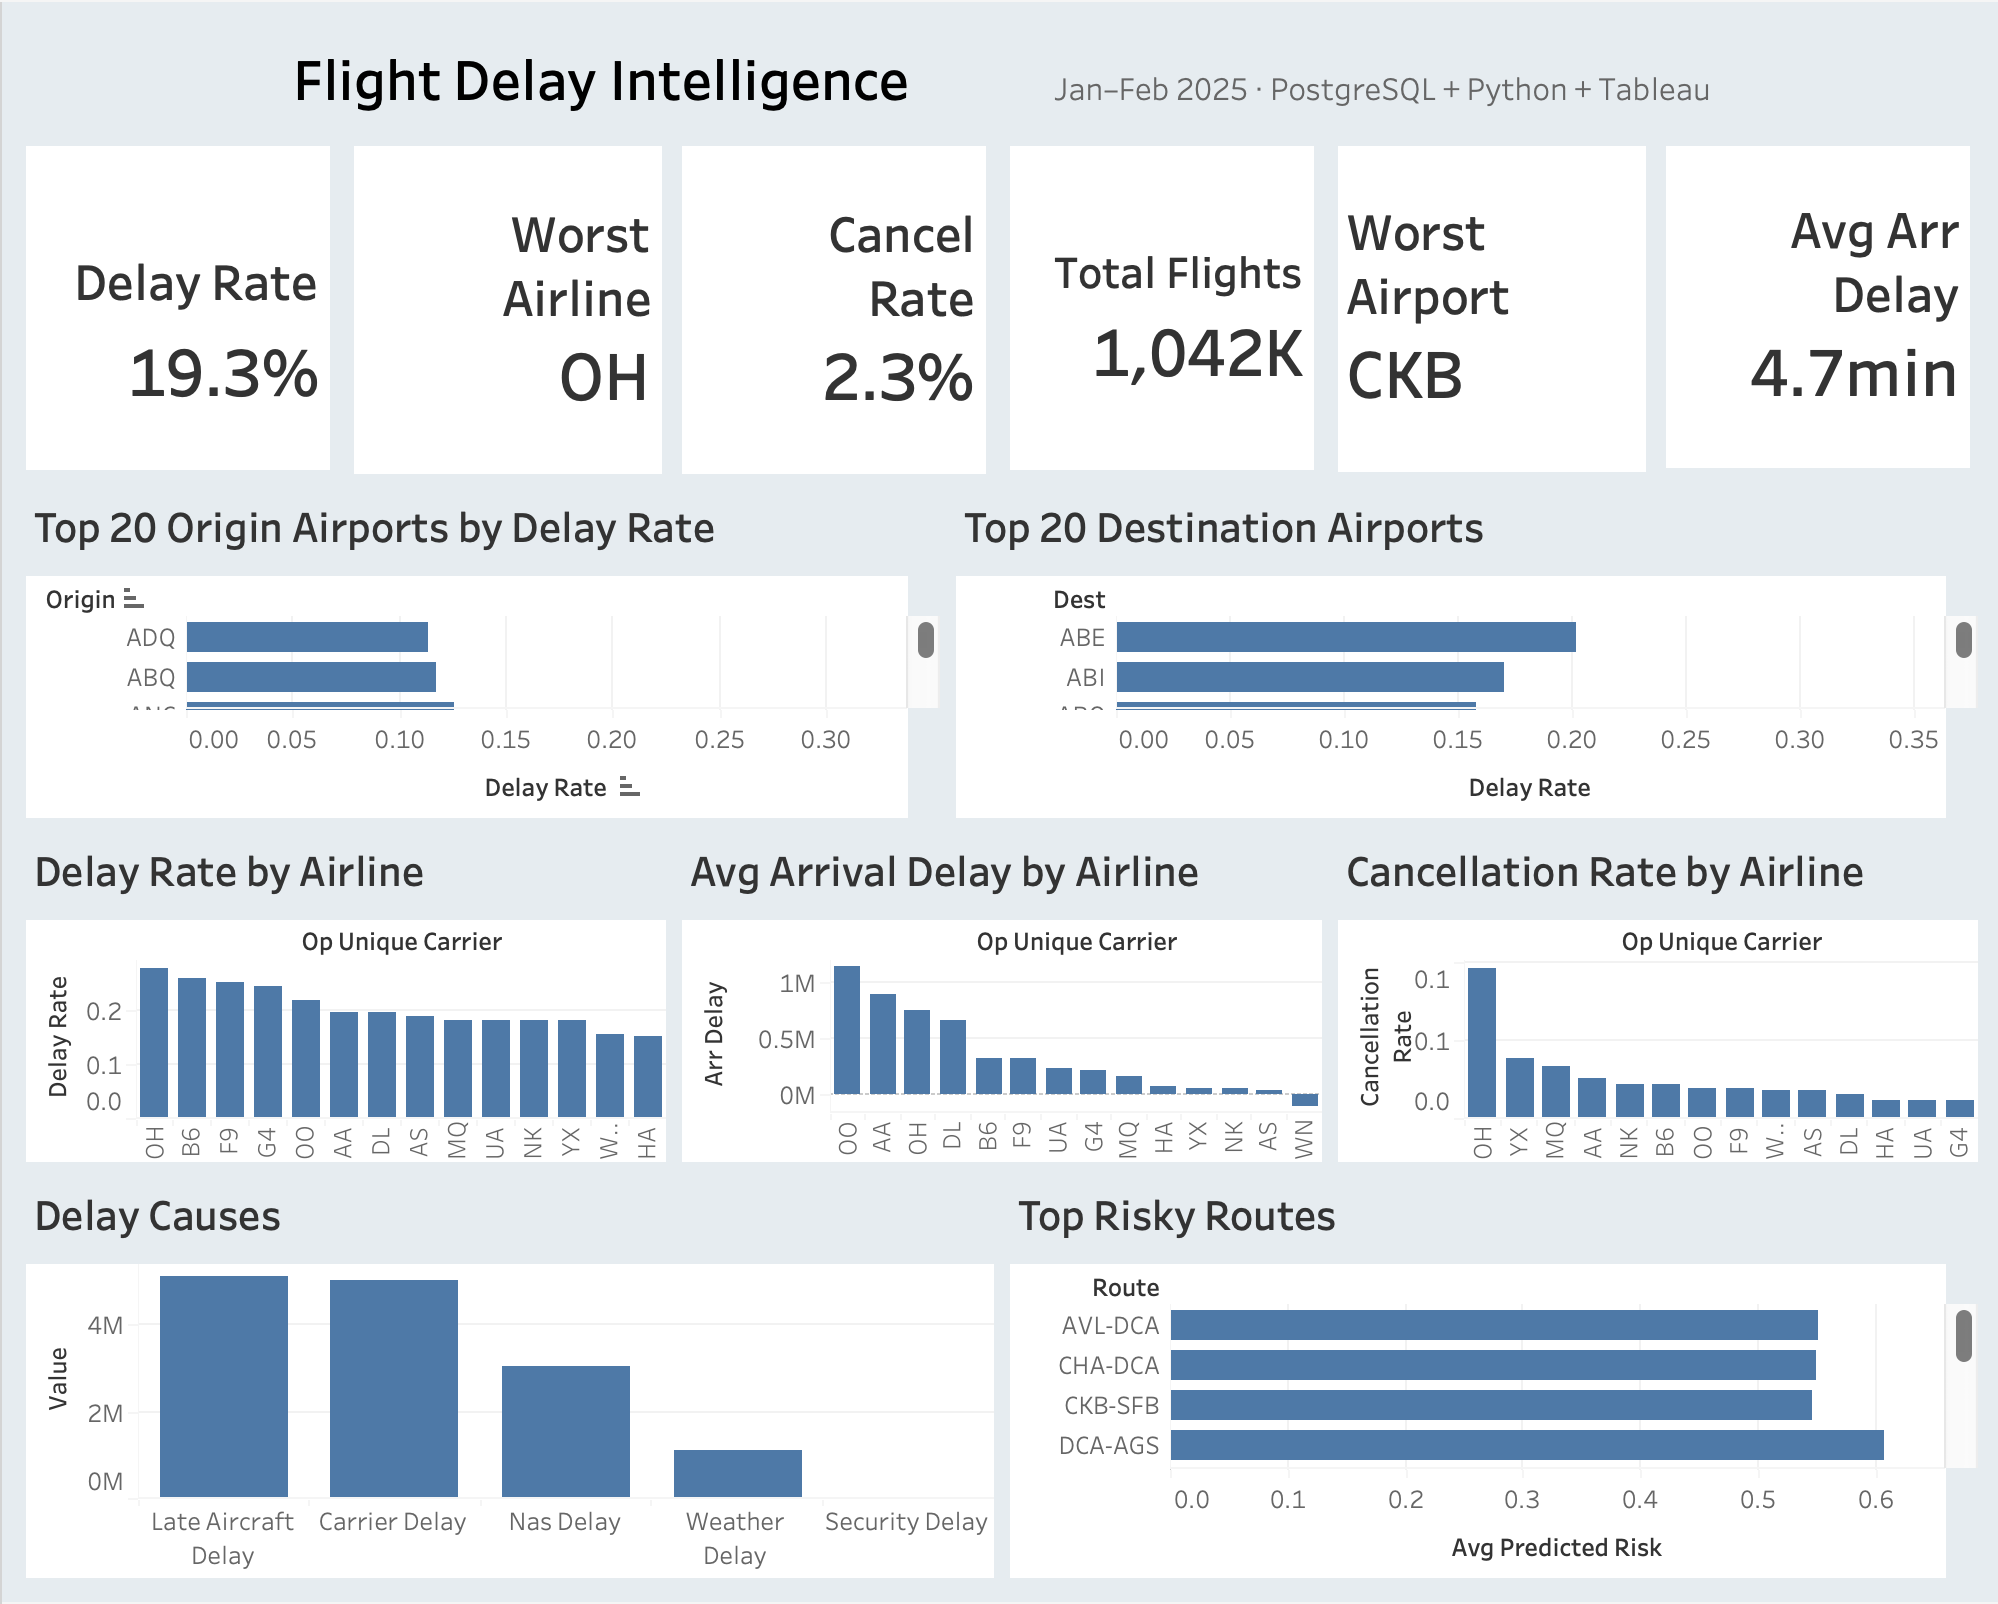

What the dashboard file says about the page in this screenshot:
{"tool":"tableau","page":{"name":"Dashboard 1","canvas":[1000,800],"ordinal":0},"visuals":[{"type":"text","box":[8,8,984,60]},{"type":"worksheet","title":"KPI - Delay Rate","mark":"Text","box":[8,68,164,172]},{"type":"worksheet","title":"KPI - Worst Airline","mark":"Automatic","box":[172,68,164,172]},{"type":"worksheet","title":"KPI - Cancellation Rate","mark":"Text","box":[336,68,164,172]},{"type":"worksheet","title":"KPI - Total Flights","mark":"Text","box":[500,68,164,172]},{"type":"worksheet","title":"KPI - Worst Airport","mark":"Automatic","box":[664,68,164,172]},{"type":"worksheet","title":"KPI - Avg Arr Delay","mark":"Text","box":[828,68,164,172]},{"type":"worksheet","title":"Top 20 Origin Airports by Delay Rate","mark":"Automatic","rows":["origin"],"cols":["Calculation_4445665252126720"],"box":[8,240,465,172]},{"type":"worksheet","title":"Top 20 Destination Airports","mark":"Automatic","rows":["dest"],"cols":["Calculation_4445665252126720"],"box":[473,240,519,172]},{"type":"worksheet","title":"Delay Rate by Airline","mark":"Automatic","rows":["Calculation_4445665252126720"],"cols":["op_unique_carrier"],"box":[8,412,328,172]},{"type":"worksheet","title":"Avg Arrival Delay by Airline","mark":"Automatic","rows":["arr_delay"],"cols":["op_unique_carrier"],"box":[336,412,328,172]},{"type":"worksheet","title":"Cancellation Rate by Airline","mark":"Automatic","rows":["Calculation_4445665253326849"],"cols":["op_unique_carrier"],"box":[664,412,328,172]},{"type":"worksheet","title":"Delay Causes","mark":"Automatic","box":[8,584,492,208]},{"type":"worksheet","title":"Top Risky Routes","mark":"Automatic","rows":["route"],"cols":["Calculation_5194707880906752"],"box":[500,584,492,208]}]}

Visuals, with their boxes in screenshot pixels (x1, y1, x2, y2), scaled from the page's 1000x800 canvas onto the 1998x1604 screenshot:
text: rect(16, 16, 1982, 136)
"KPI - Delay Rate" worksheet (Text marks): rect(16, 136, 344, 481)
"KPI - Worst Airline" worksheet: rect(344, 136, 671, 481)
"KPI - Cancellation Rate" worksheet (Text marks): rect(671, 136, 999, 481)
"KPI - Total Flights" worksheet (Text marks): rect(999, 136, 1327, 481)
"KPI - Worst Airport" worksheet: rect(1327, 136, 1654, 481)
"KPI - Avg Arr Delay" worksheet (Text marks): rect(1654, 136, 1982, 481)
"Top 20 Origin Airports by Delay Rate" worksheet: rect(16, 481, 945, 826)
"Top 20 Destination Airports" worksheet: rect(945, 481, 1982, 826)
"Delay Rate by Airline" worksheet: rect(16, 826, 671, 1171)
"Avg Arrival Delay by Airline" worksheet: rect(671, 826, 1327, 1171)
"Cancellation Rate by Airline" worksheet: rect(1327, 826, 1982, 1171)
"Delay Causes" worksheet: rect(16, 1171, 999, 1588)
"Top Risky Routes" worksheet: rect(999, 1171, 1982, 1588)
